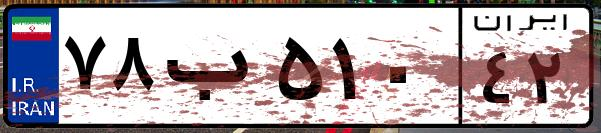0: (385, 28, 445, 110)
1: (330, 28, 385, 110)
2: (525, 38, 570, 115)
4: (475, 38, 525, 113)
5: (270, 28, 330, 110)
7: (57, 26, 110, 100)
8: (110, 28, 158, 98)
ب: (158, 20, 270, 120)
